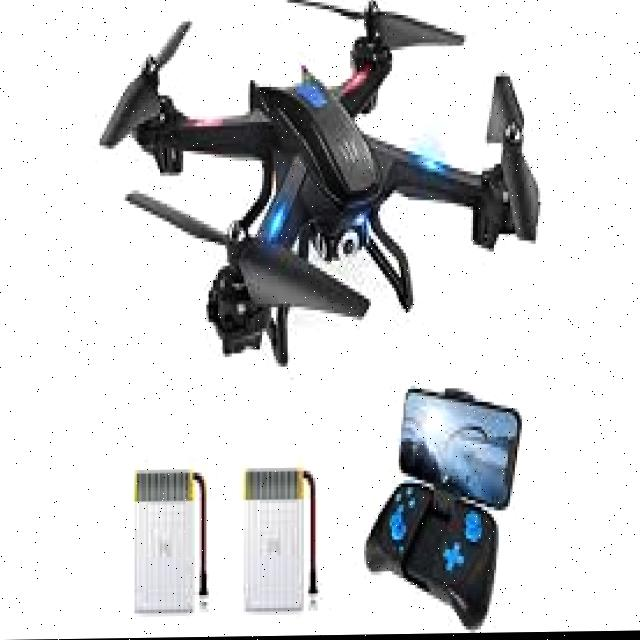drone: (88, 0, 572, 377)
